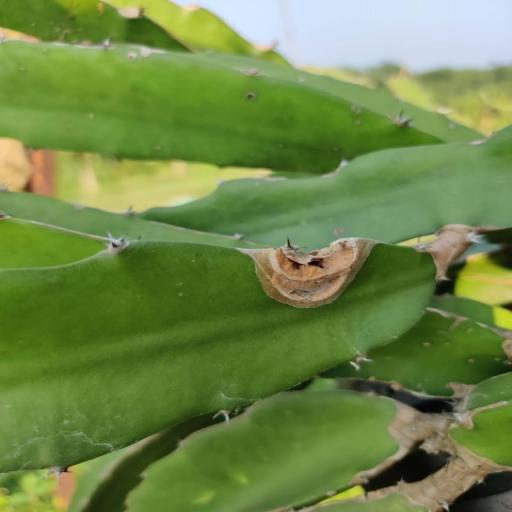stemcanker: (349, 102, 366, 116), (125, 51, 141, 63), (171, 279, 189, 289), (443, 338, 457, 350), (492, 354, 508, 364), (87, 111, 98, 122), (176, 291, 190, 299), (422, 340, 434, 348), (466, 356, 478, 364)
